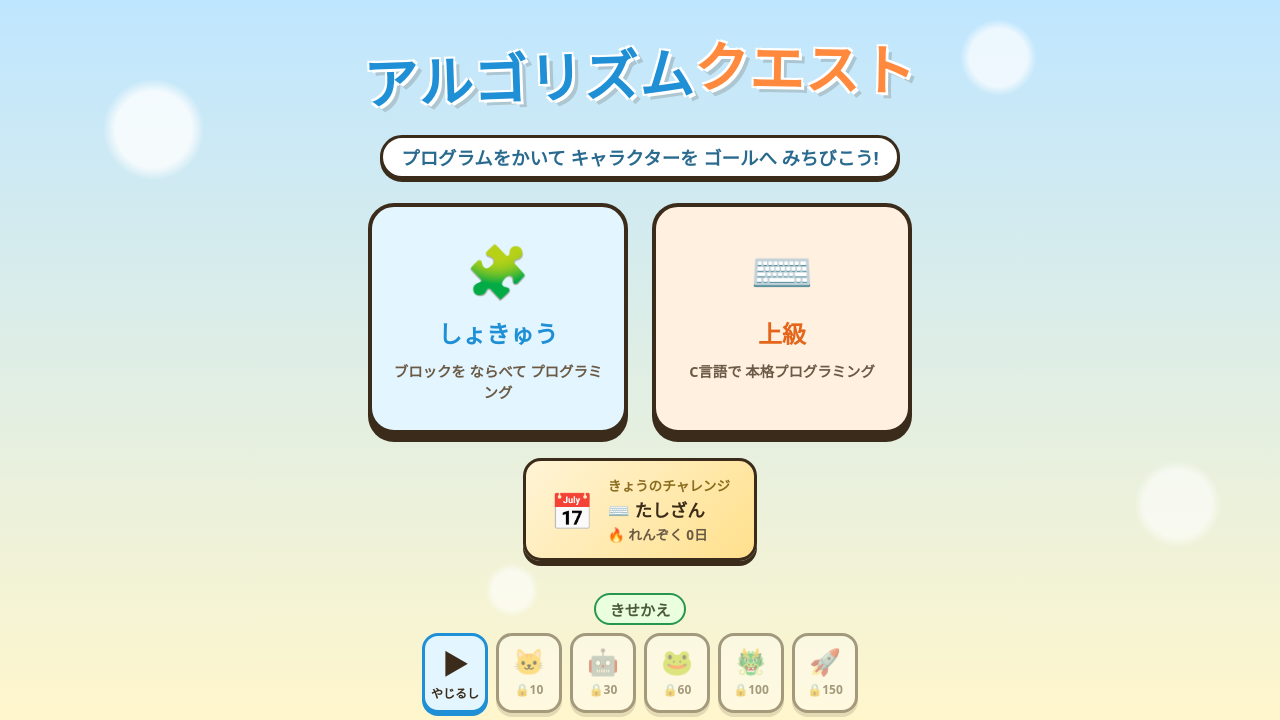
IO問題のフロー › 不合格ケースは入力・期待・実際の出力を表示する
Click the button "⌨️ 上級 C言語で 本格プログラミング".
click(782, 318)  # box [652,203,912,434]
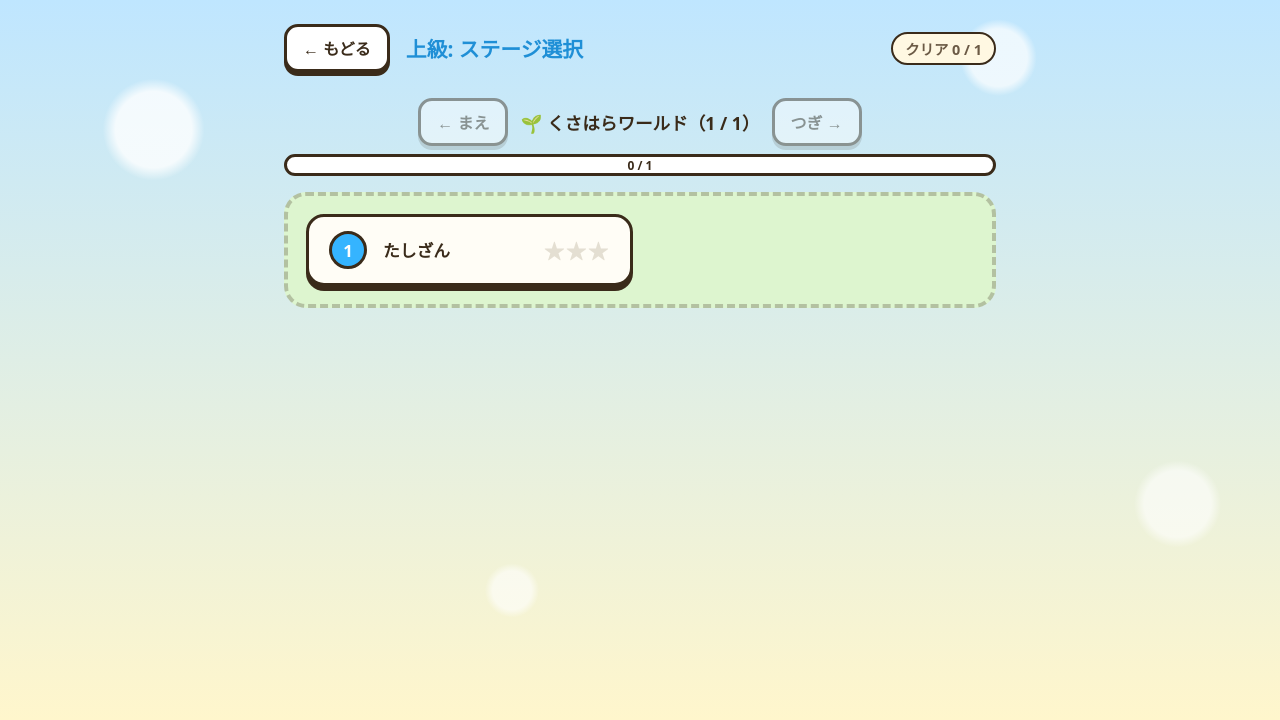
Check: the button "1 たしざん ★★★" is shown
Click the button "1 たしざん ★★★".
click(348, 250)  # box [306,214,633,286]
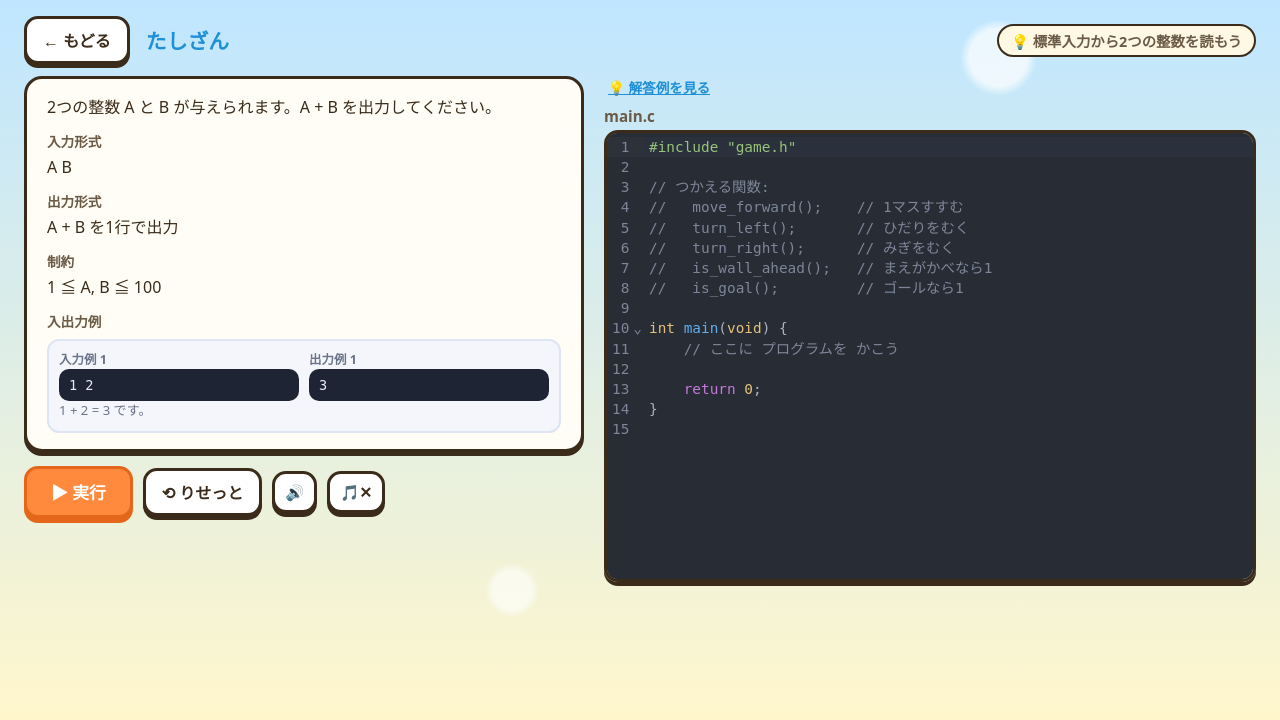
Click the button "▶ 実行".
click(78, 492)  # box [24,466,133,518]
(page scrolled)
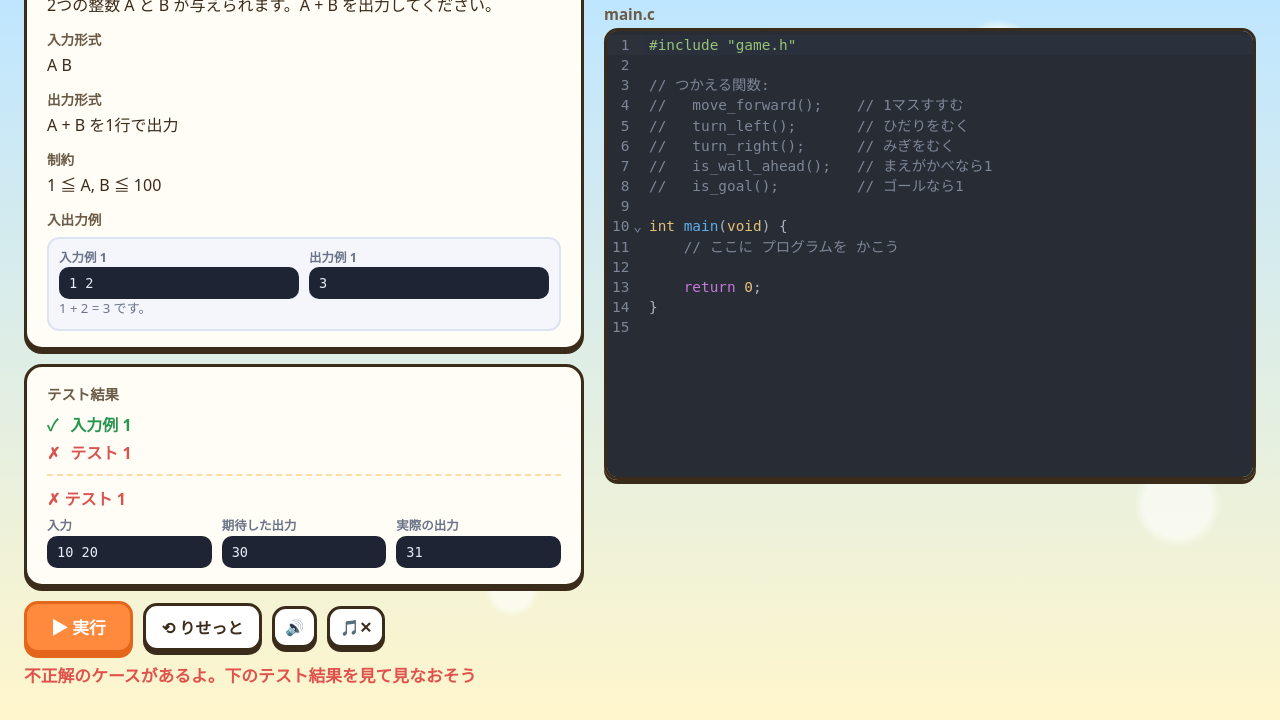
Check: the heading "テスト結果" is shown, box [47,385,119,404]
Check: the list item with class "io-case-fail" reads "✗ テスト 1", box [47,442,132,464]
Check: the text "期待した出力" is shown, box [222,517,296,534]
